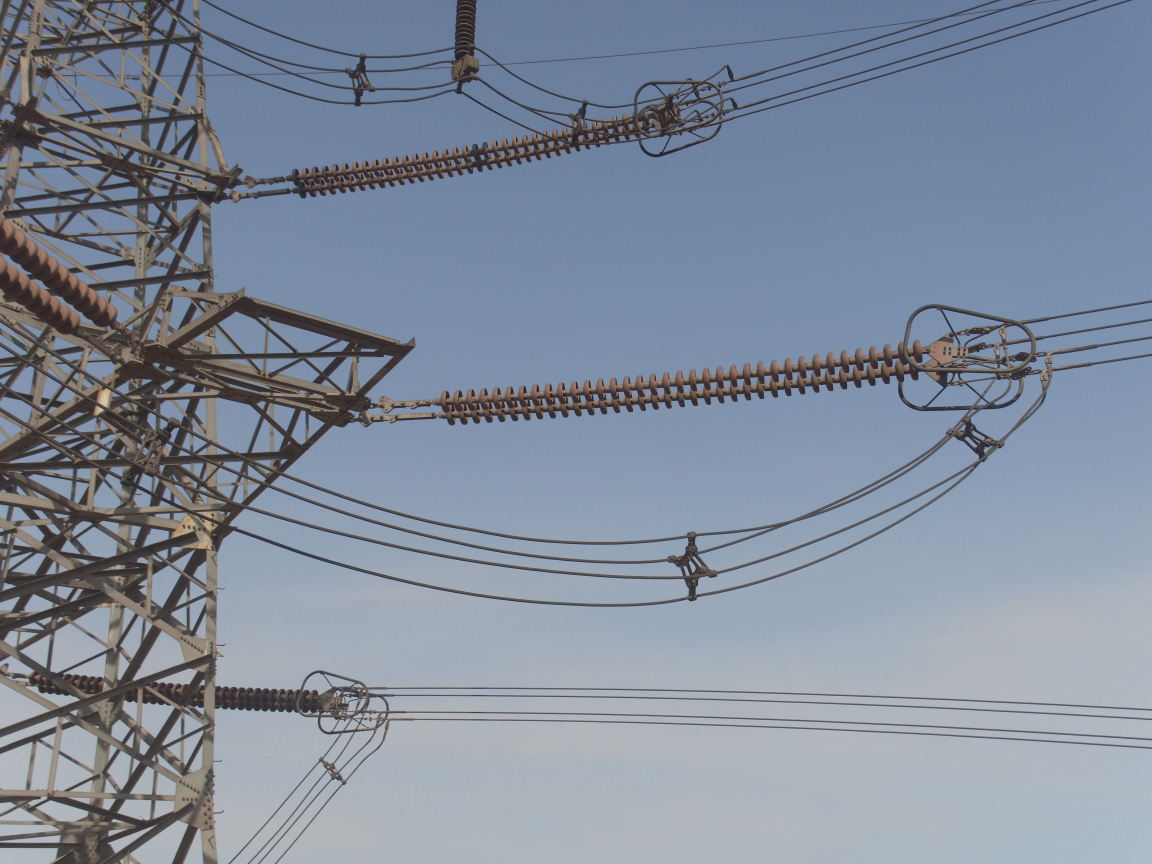insulator: (412, 336, 939, 427), (274, 108, 651, 202), (19, 670, 320, 715)
